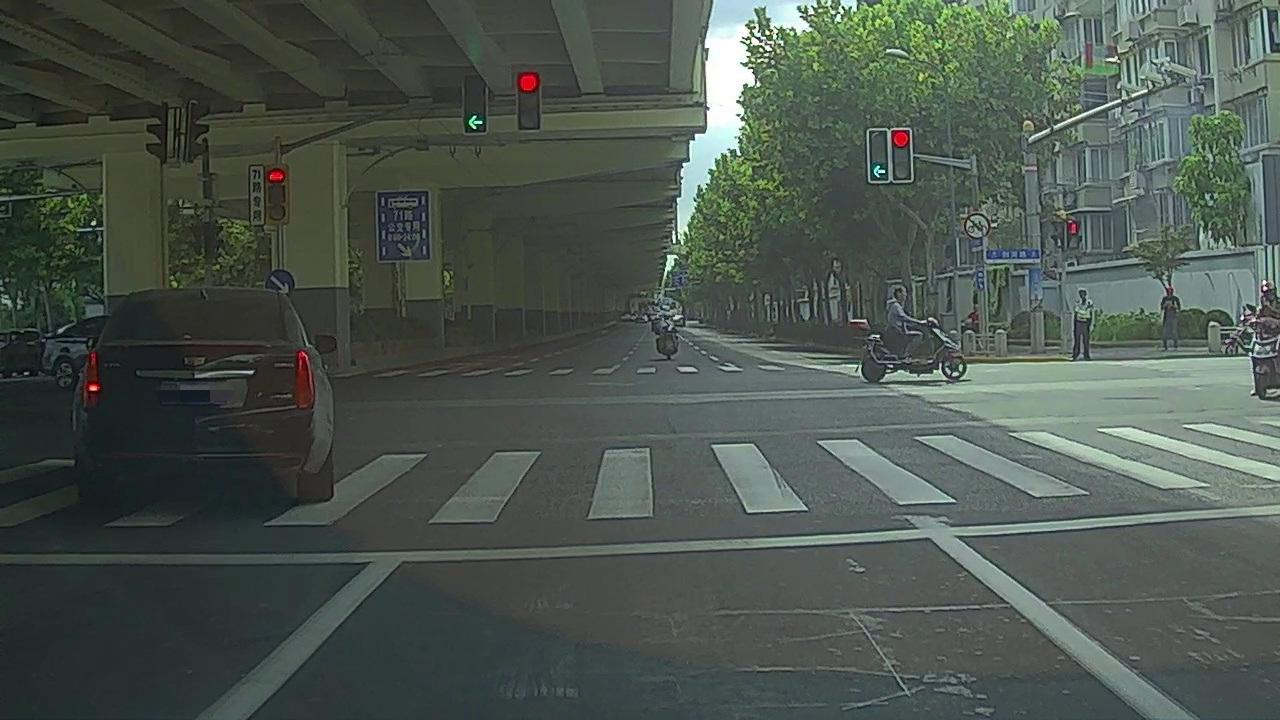traffic_light: (463, 75, 487, 131), (516, 72, 539, 130), (866, 130, 891, 183), (891, 129, 914, 183)
